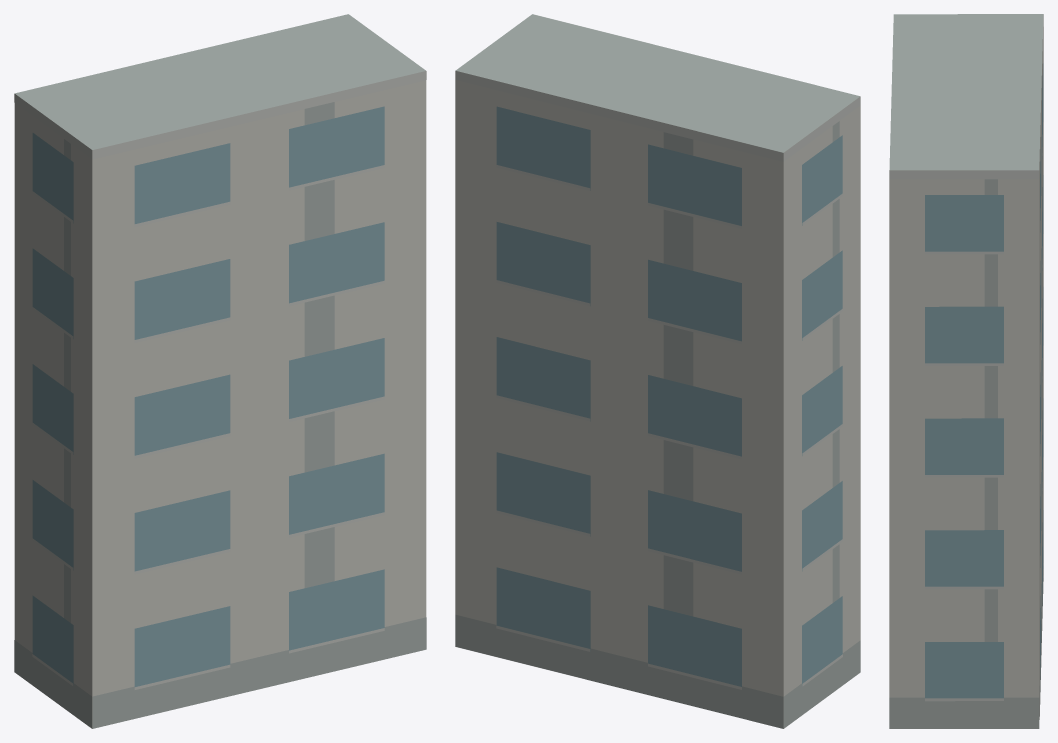
Rendered from survey-upis-32730055.glb.
3 views of the same model, side by side, from view 1: azimuth 30°, elevation 25°; view 2: azimuth 150°, elevation 25°; view 3: azimuth 270°, elevation 25° (orthographic). The views are drawn at different scales.
Visible parts, largest first — view 1: survey-upis-32730055.tmp; view 2: survey-upis-32730055.tmp; view 3: survey-upis-32730055.tmp.
Boxes of the visible parts, x1=… form: survey-upis-32730055.tmp: x1=14, y1=14, x2=426, y2=728; survey-upis-32730055.tmp: x1=455, y1=14, x2=860, y2=728; survey-upis-32730055.tmp: x1=889, y1=14, x2=1043, y2=728.
Size of the model in its own units: 9.18 by 15.25 by 3.82.
